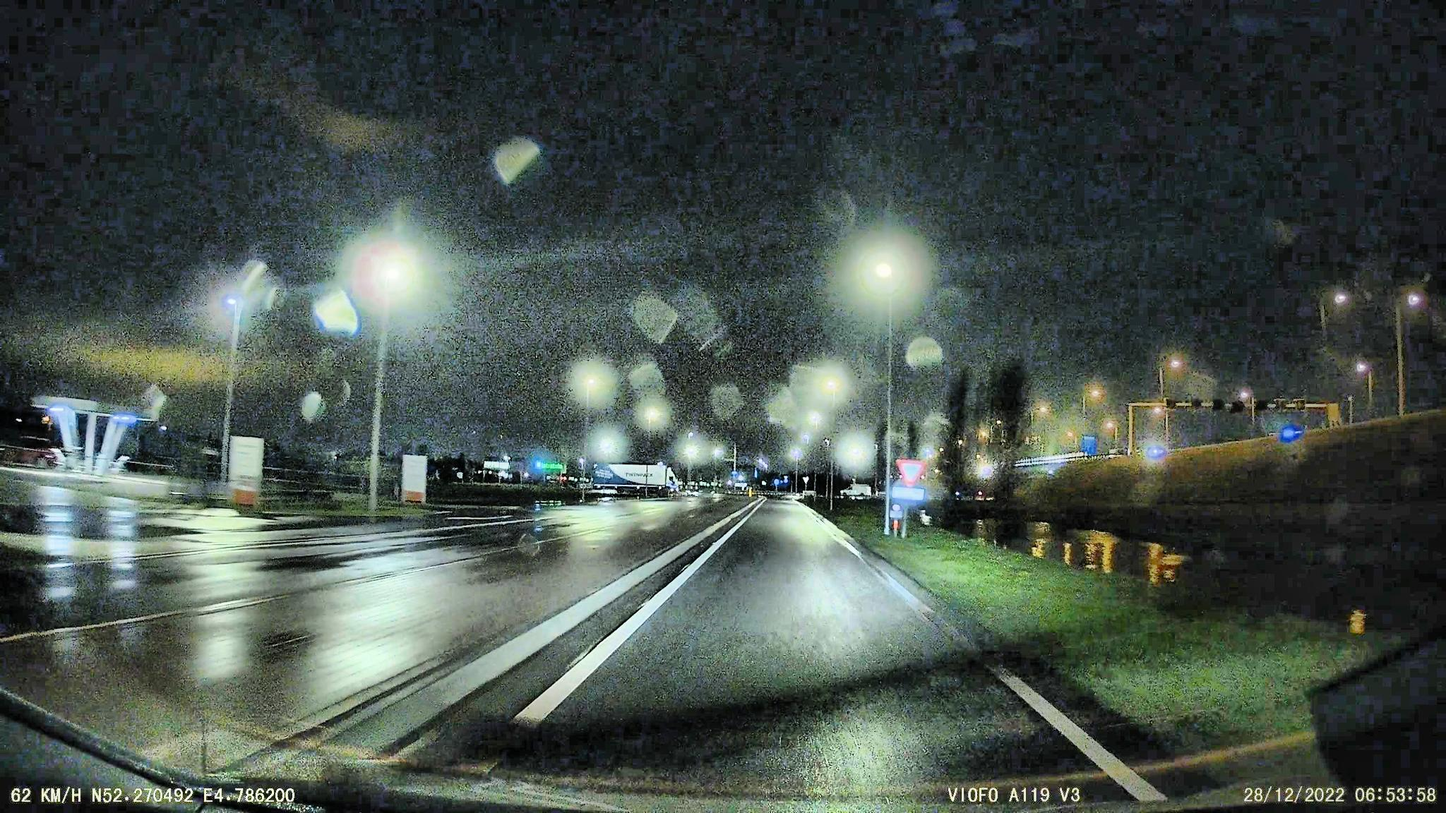Roads: (402, 500, 1087, 777)
